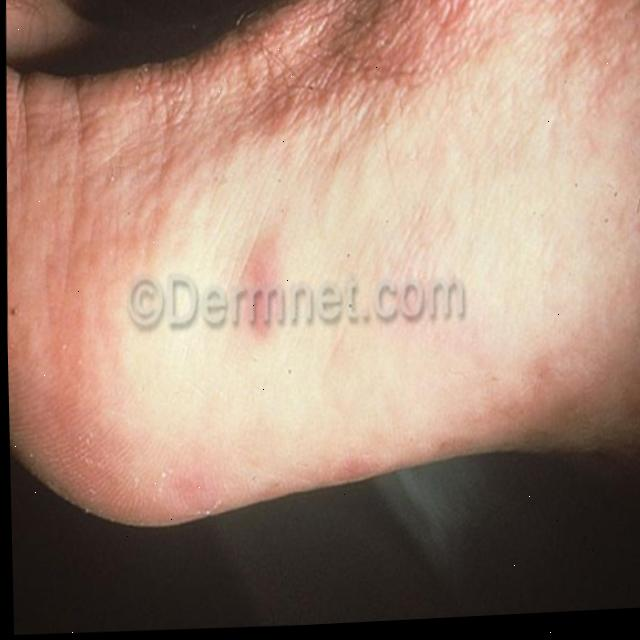Shingles: (231, 243, 275, 354), (419, 0, 483, 19)
